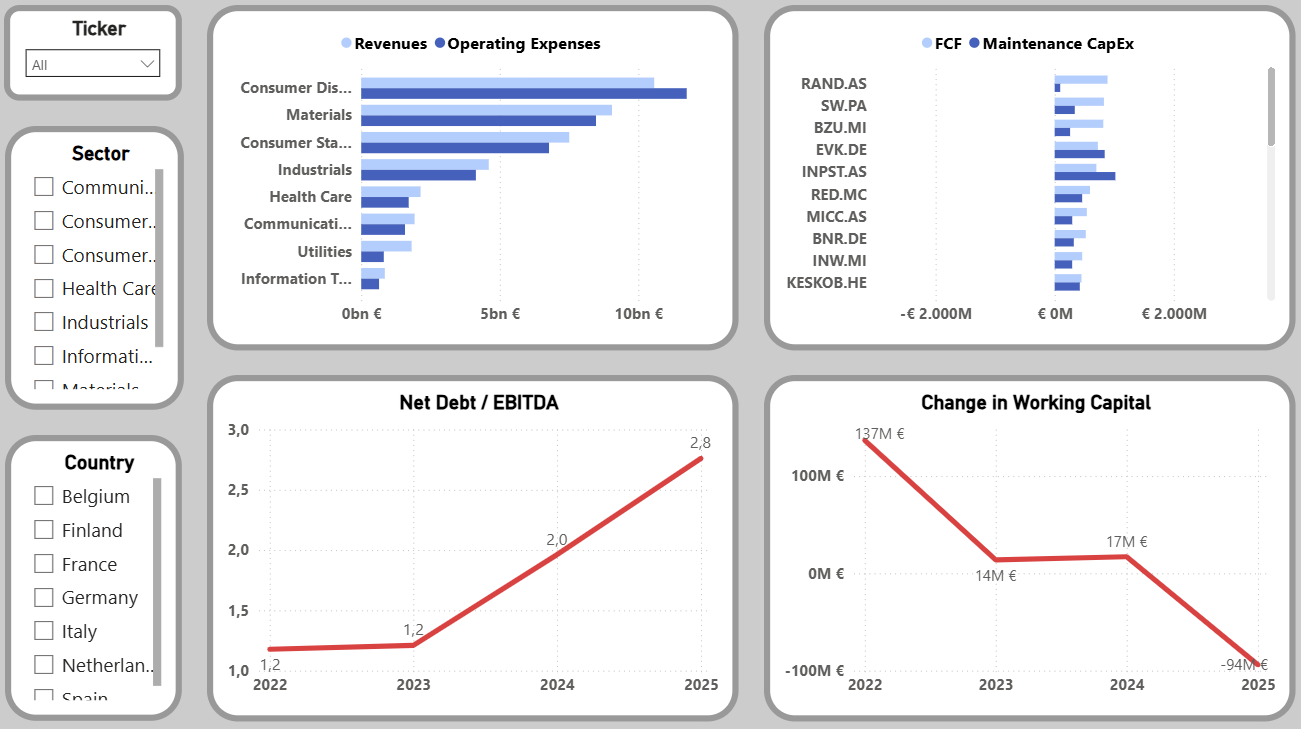

The dashboard page shown, as its layout file describes it:
{"tool":"powerbi","page":{"name":"Costs and Financial Health","canvas":[1280,720],"ordinal":2},"visuals":[{"type":"clusteredBarChart","fields":{"Category":["vw_equity_analytics.sector","vw_equity_analytics.ticker_key"],"Y":["Median(vw_equity_analytics.total_revenue)","Median(vw_equity_analytics.opex)"]},"box":[209.1,11.7,517.4,335.6],"z":0},{"type":"clusteredBarChart","fields":{"Category":["vw_equity_analytics.sector","vw_equity_analytics.ticker_key"],"Y":["Median(vw_equity_analytics.fcf)","Median(vw_equity_analytics.maintenance_capex)"]},"box":[750.9,11.7,517.4,335.6],"z":1000},{"type":"lineChart","title":"Net Debt / EBITDA","fields":{"Y":["Median(vw_equity_analytics.net_debt_ebitda)"],"Category":["vw_equity_analytics.fiscal_date.Variation.Date Hierarchy.Year"]},"box":[209.1,371.6,517.4,336.5],"z":2000},{"type":"lineChart","title":"Change in Working Capital","fields":{"Category":["vw_equity_analytics.fiscal_date.Variation.Date Hierarchy.Year"],"Y":["Median(vw_equity_analytics.working_capital_change)"]},"box":[750.9,371.6,517.4,336.5],"z":3000},{"type":"slicer","title":"Sector","fields":{"Values":["vw_equity_analytics.sector"]},"box":[12.6,129.4,174.1,276.2],"z":3001},{"type":"slicer","title":"Country","fields":{"Values":["vw_equity_analytics.location"]},"box":[12.6,429.9,172.2,278.2],"z":3002},{"type":"slicer","title":"Ticker","fields":{"Values":["vw_equity_analytics.ticker_key"]},"box":[11.7,11.7,173.1,93.4],"z":3003}]}

Visuals, with their boxes in screenshot pixels (x1, y1, x2, y2), scaled from the page's 1280x720 canvas onto the 1301x729 screenshot:
clusteredBarChart - vw_equity_analytics.sector x vw_equity_analytics.ticker_key: bbox=[213, 12, 738, 352]
clusteredBarChart - vw_equity_analytics.sector x vw_equity_analytics.ticker_key: bbox=[763, 12, 1289, 352]
"Net Debt / EBITDA" lineChart: bbox=[213, 376, 738, 717]
"Change in Working Capital" lineChart: bbox=[763, 376, 1289, 717]
"Sector" slicer: bbox=[13, 131, 190, 411]
"Country" slicer: bbox=[13, 435, 188, 717]
"Ticker" slicer: bbox=[12, 12, 188, 106]
